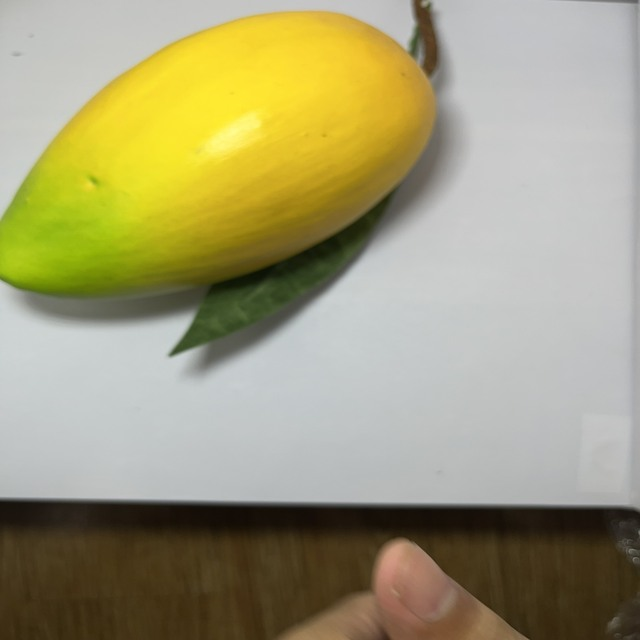Xoai: (0, 8, 443, 305)
